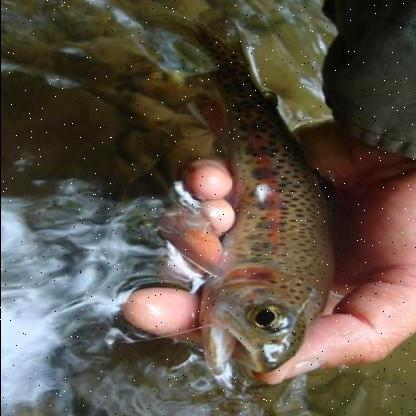fish: (152, 12, 341, 382)
